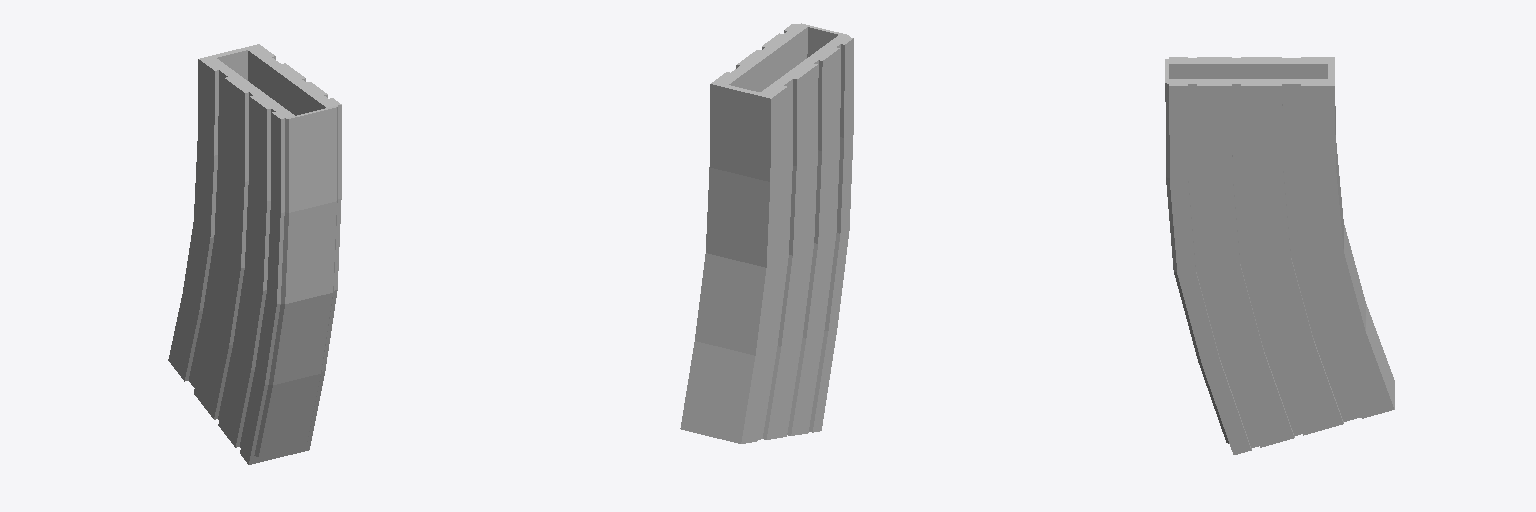
Rendered from m4_mag.obj.
The picture shows the model from 3 angles: view 1: azimuth 30°, elevation 25°; view 2: azimuth 150°, elevation 25°; view 3: azimuth 270°, elevation 25°; orthographic projection.
Parts seen in each view (by area): view 1: mag_Mesh.073; view 2: mag_Mesh.073; view 3: mag_Mesh.073.
Part boxes in pixels (x1,y1,x2,y2): mag_Mesh.073: (168, 44, 341, 464); mag_Mesh.073: (680, 23, 853, 443); mag_Mesh.073: (1165, 57, 1394, 454).
Bounding box in the file's own units: 0.0305 × 0.1767 × 0.0993.